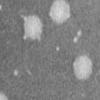white: (16, 13, 44, 43), (71, 52, 95, 82), (46, 0, 73, 26), (23, 67, 34, 78), (0, 89, 11, 100), (10, 68, 20, 78), (53, 44, 62, 55), (76, 29, 84, 38), (72, 35, 79, 44), (0, 2, 4, 14)
